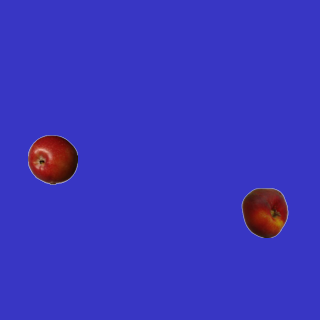Apple Braeburn: (27, 134, 77, 184)
Nectarine Flat: (239, 187, 289, 237)
